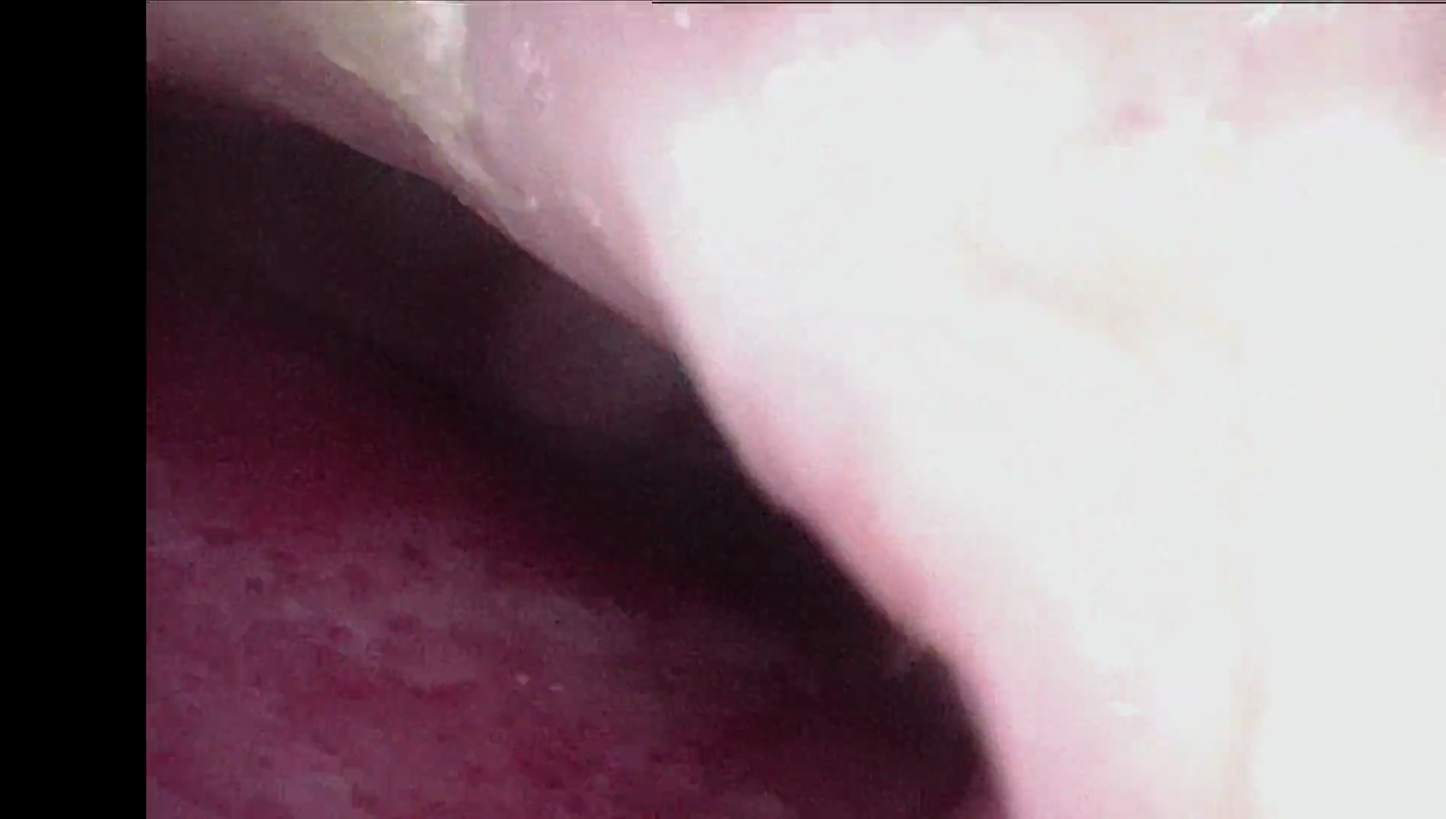close_wall: (624, 0, 1446, 456), (1025, 84, 1446, 819)
next: (599, 388, 915, 687)
